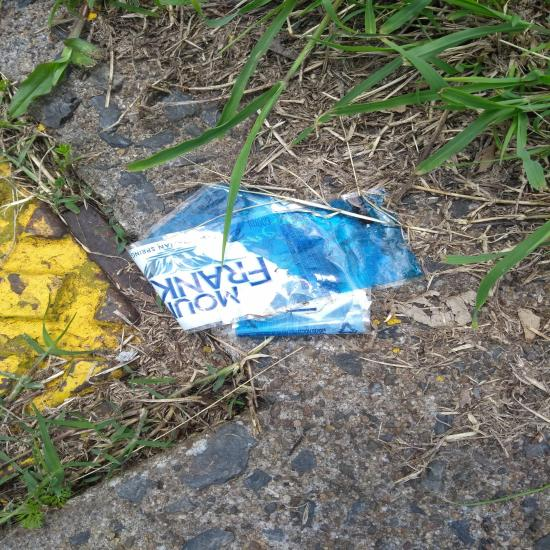Other plastic: (227, 390, 262, 420)
